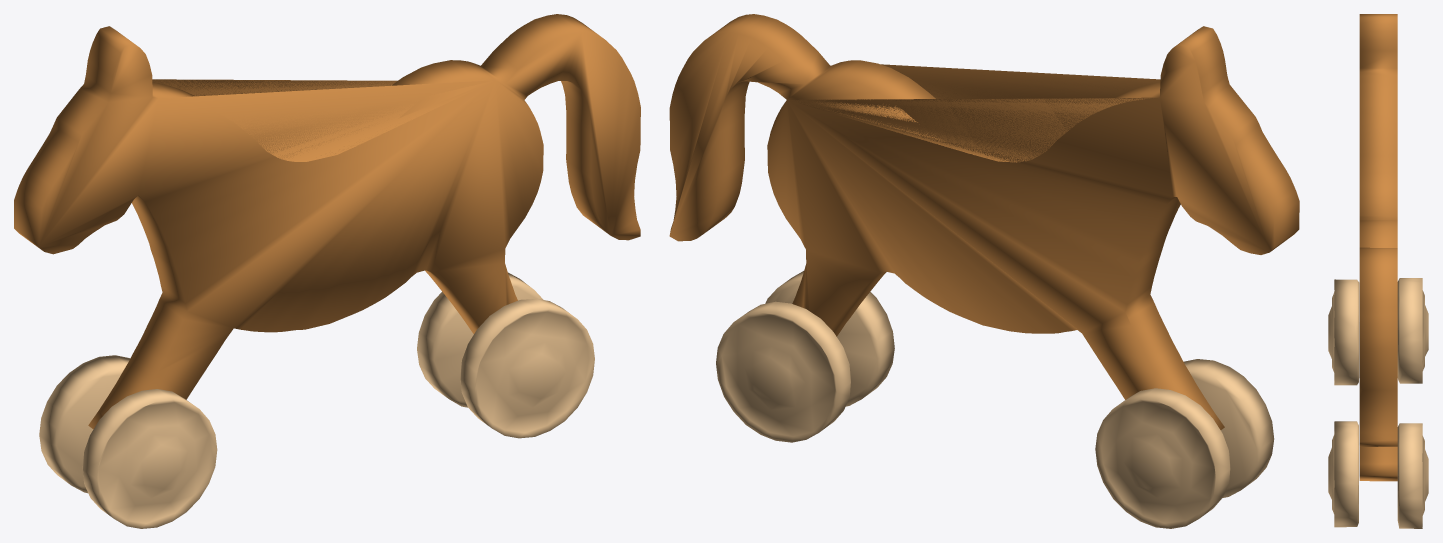
The model's file is toy horse.fbx.
The picture shows the model from 3 angles, left to right: view 1: azimuth 30°, elevation 25°; view 2: azimuth 150°, elevation 25°; view 3: azimuth 270°, elevation 25°; orthographic projection. The views are drawn at different scales.
Visible parts, largest first — view 1: toy horse; view 2: toy horse; view 3: toy horse.
Boxes of the visible parts, x1=… form: toy horse: x1=14, y1=14, x2=640, y2=528; toy horse: x1=669, y1=14, x2=1299, y2=528; toy horse: x1=1328, y1=14, x2=1428, y2=528.
Bounding box in the file's own units: 47.67 × 36.02 × 9.02.
